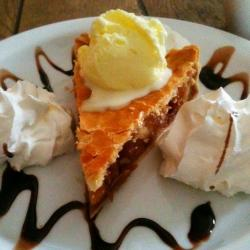apple_pie: (68, 32, 198, 216)
icecream: (164, 92, 250, 192), (79, 10, 169, 99), (2, 82, 76, 169)
